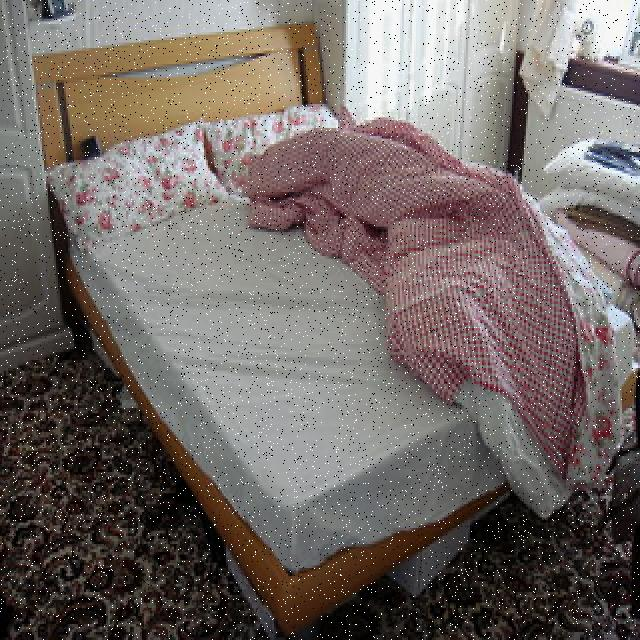bed: (48, 97, 637, 550)
